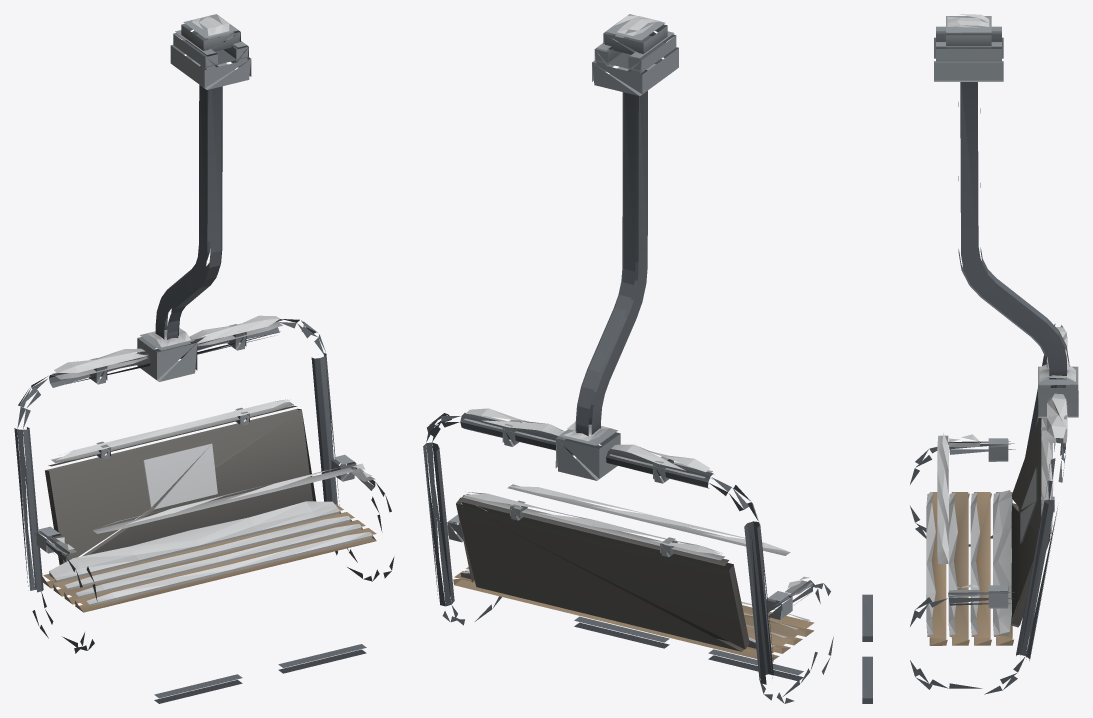
The model's file is chair.lod.glb.
The picture shows the model from 3 angles, left to right: view 1: azimuth 30°, elevation 25°; view 2: azimuth 150°, elevation 25°; view 3: azimuth 270°, elevation 25°; orthographic projection. The views are drawn at different scales.
Visible parts, largest first — view 1: chair.001; view 2: chair.001; view 3: chair.001.
Part boxes in pixels (x1,y1,x2,y2): chair.001: (14, 14, 394, 703); chair.001: (423, 14, 833, 703); chair.001: (862, 14, 1078, 703).
Bounding box in the file's own units: 2 × 3.81 × 1.18.
